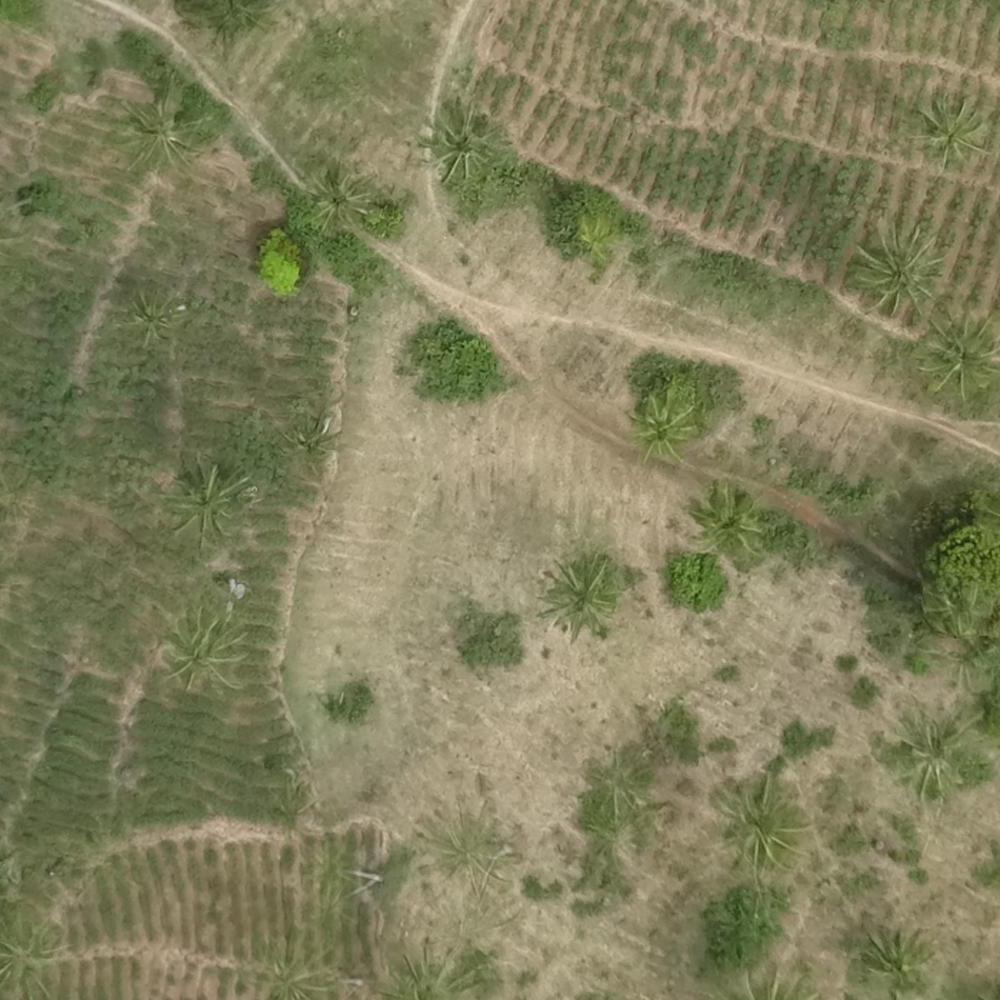Palm: (854, 224, 941, 312), (714, 781, 804, 864), (166, 608, 244, 694), (917, 314, 996, 398), (897, 710, 971, 797), (126, 84, 202, 166), (854, 923, 934, 998), (911, 96, 988, 172), (627, 385, 701, 464), (168, 463, 242, 539), (549, 557, 614, 633), (690, 483, 764, 548), (429, 105, 495, 177), (116, 286, 183, 344), (305, 163, 369, 221)
